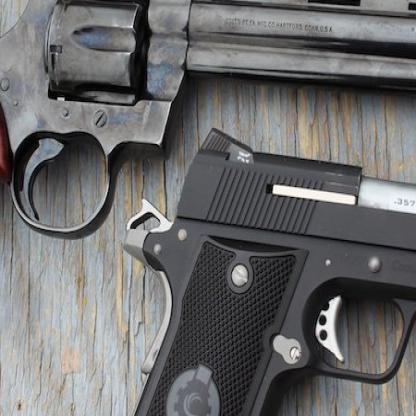gun: (0, 0, 415, 369), (88, 111, 415, 415)
